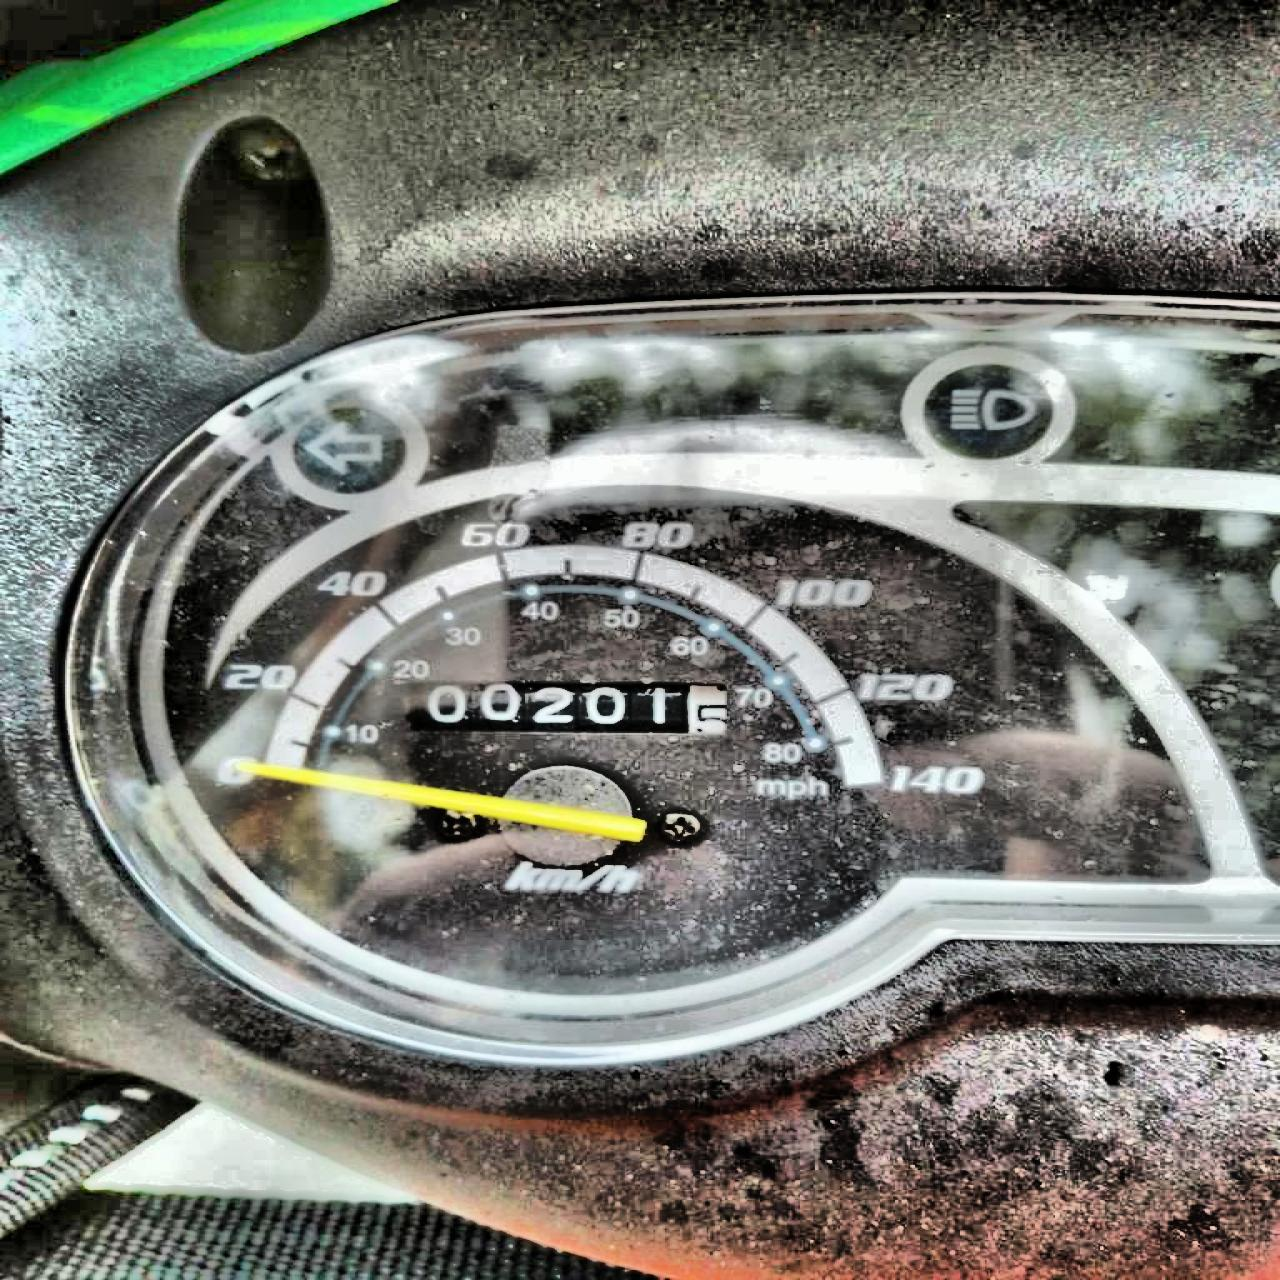0: (477, 681, 520, 722), (425, 682, 467, 726), (586, 682, 626, 726)
1: (647, 682, 672, 730)
2: (529, 682, 573, 726)
5: (690, 696, 730, 734)
odometer: (403, 678, 742, 744)
